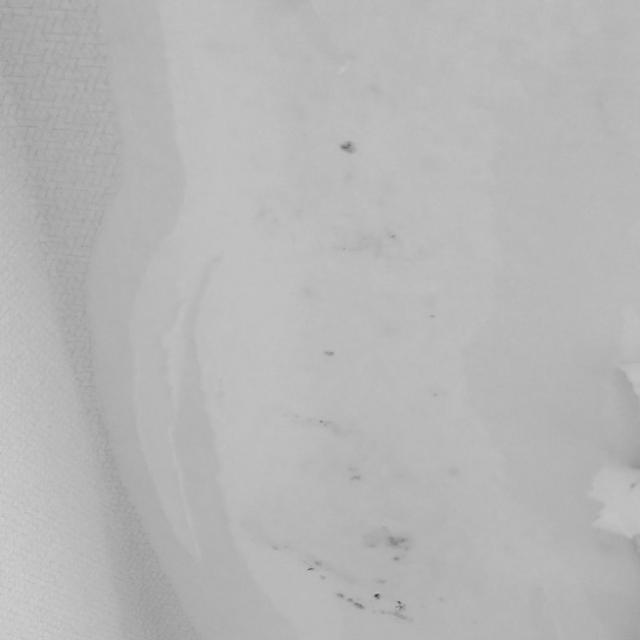stain marks: (270, 124, 431, 622)
